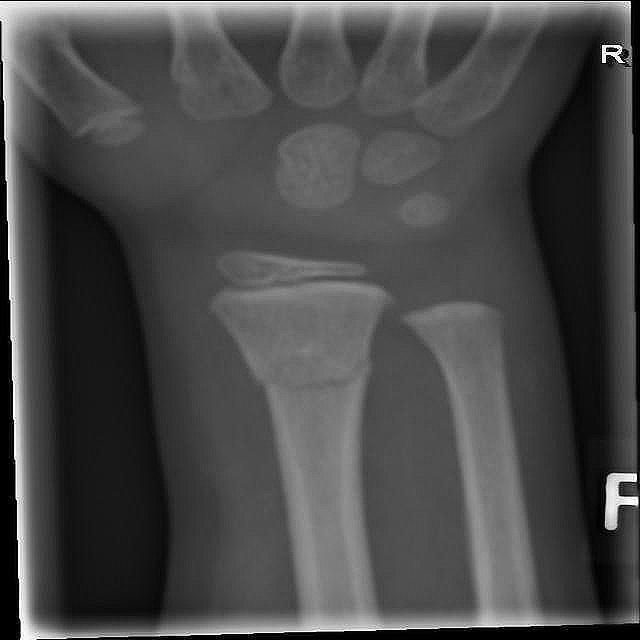bone: (244, 339, 380, 401)
